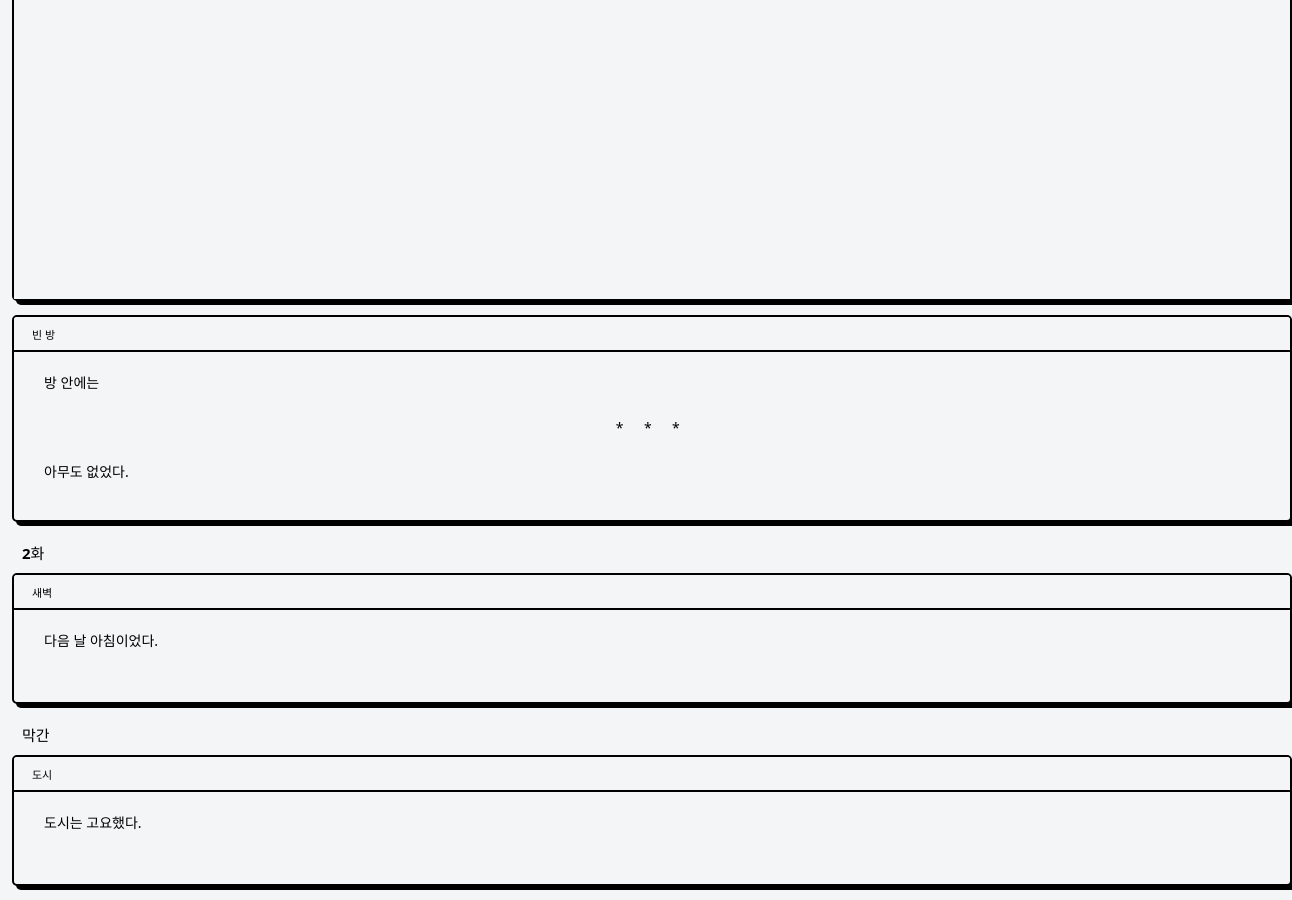
Phase 1B Scrivenings › keeps the current editor mounted when save-before-activate rejects
(page scrolled)
Click the button "새벽".
click(42, 592)  # box [26, 581, 58, 603]
(page scrolled)
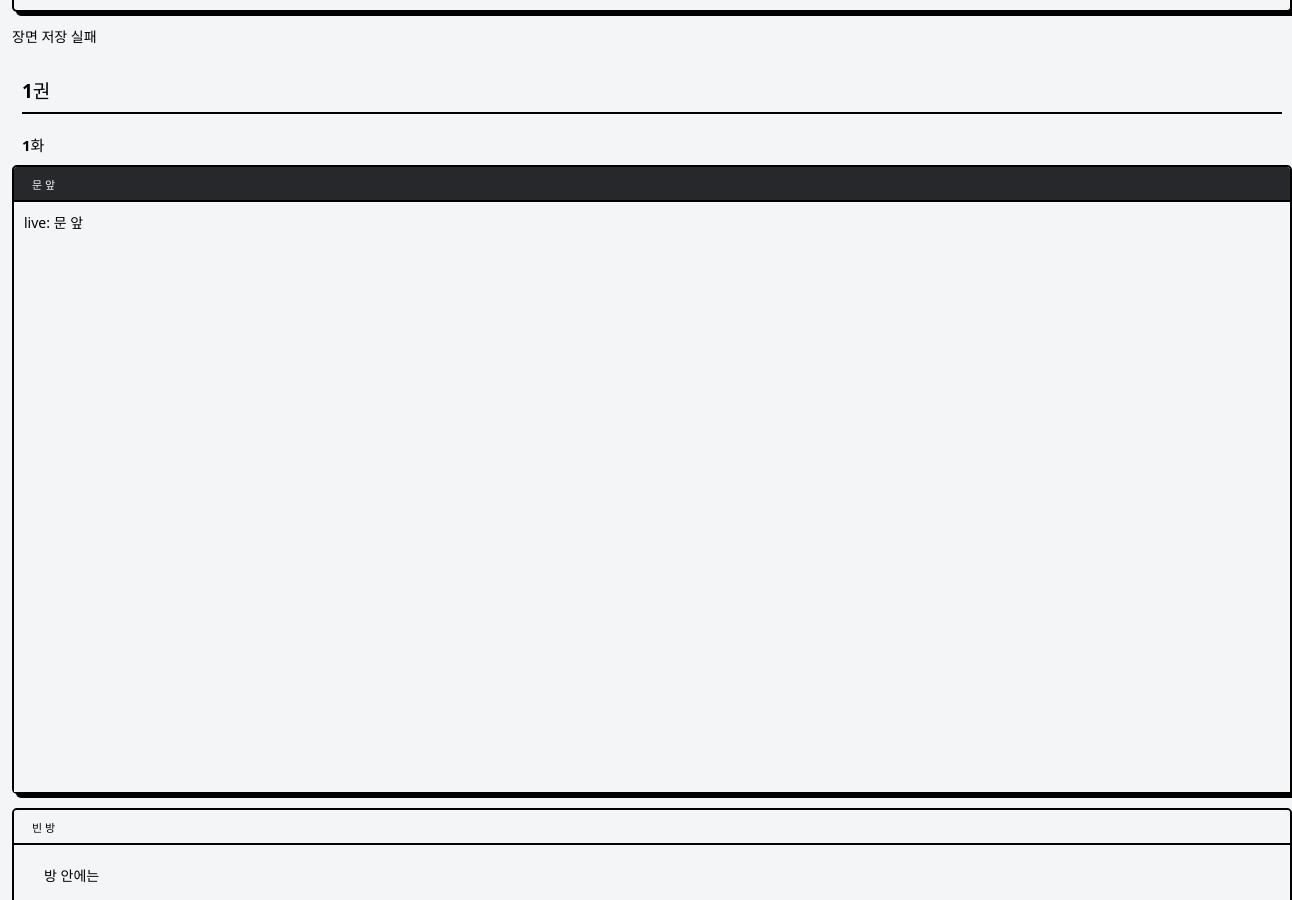
Now the message reads "장면 저장 실패", box [12, 27, 97, 46]
Now the text "live: 문 앞" is shown, box [24, 213, 83, 232]
